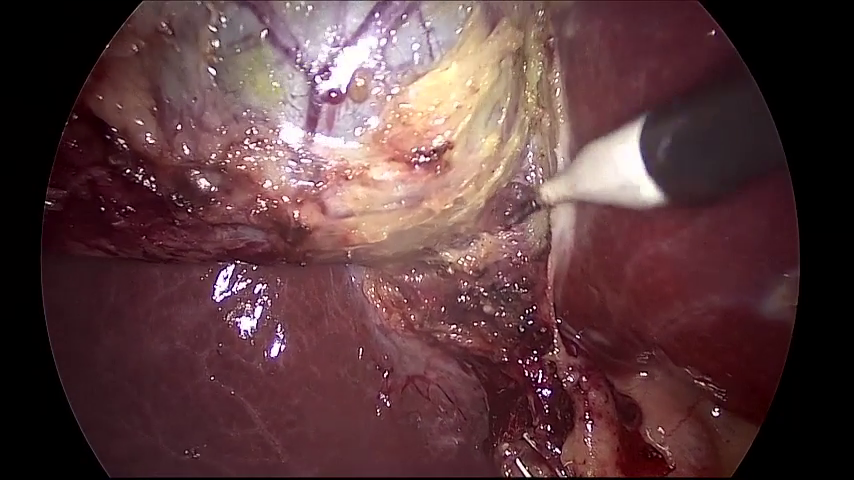lhook: (508, 49, 789, 224)
